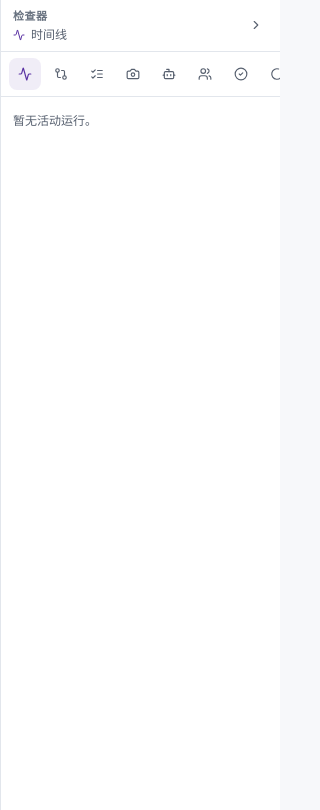
RightPanel — Progress section › switches between inspector tabs without keeping stale bodies mounted
The width and height of the screenshot is (320, 810).
Click the tab with test id "right-panel-tab-progress" at (97, 74), box top-left (81, 58), bottom-right (113, 90)
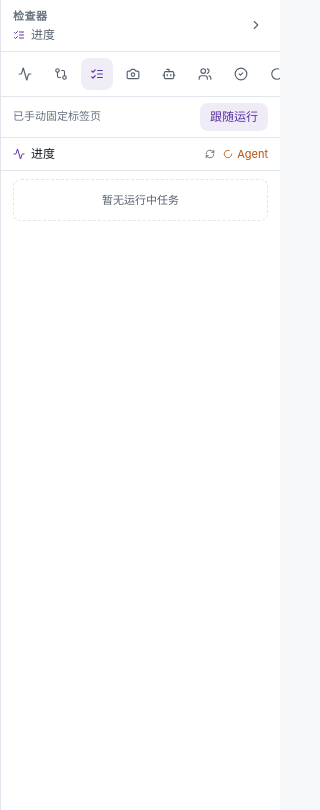
Expected: the panel with test id "right-panel-progress-body" is shown, top-left (1, 138), bottom-right (280, 232)
Click the tab with test id "right-panel-tab-diff" at (61, 74), box top-left (45, 58), bottom-right (77, 90)
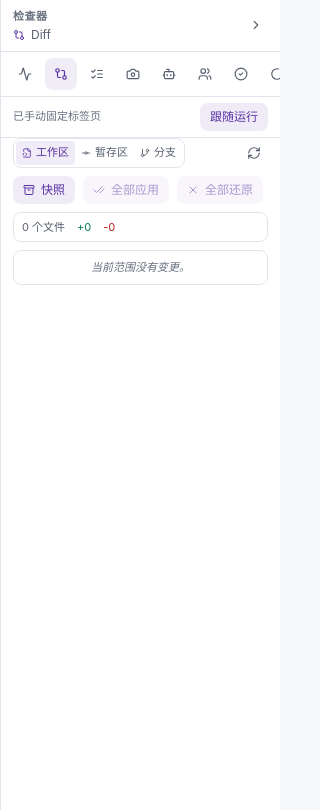
Expected: the panel with test id "right-panel-patch-body" is shown, top-left (1, 138), bottom-right (280, 296)
